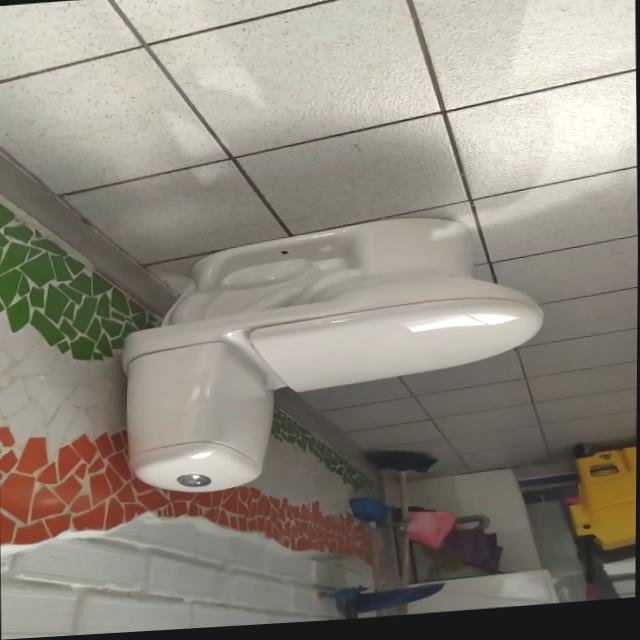toilet: (118, 213, 547, 501)
